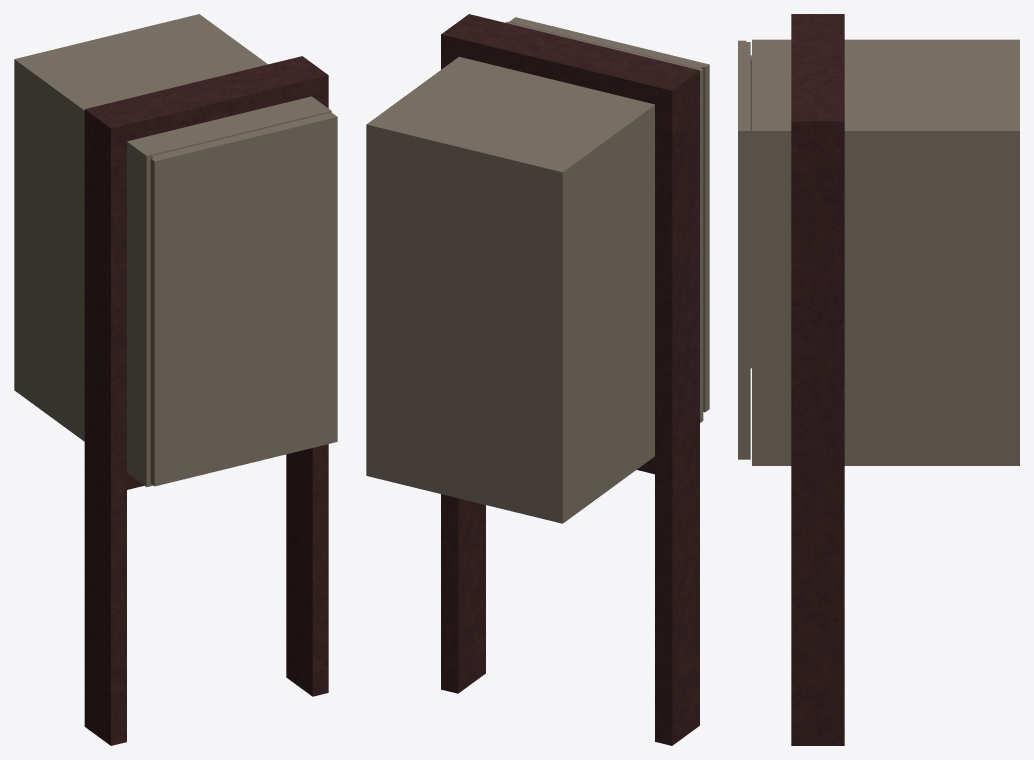
Rendered from de-boxstand_rustycopper.fbx.
3 renders of one model, left to right at view 1: azimuth 30°, elevation 25°; view 2: azimuth 150°, elevation 25°; view 3: azimuth 270°, elevation 25°, orthographic. The views are drawn at different scales.
Visible parts, largest first — view 1: de-boxstand-rustycopper; view 2: de-boxstand-rustycopper; view 3: de-boxstand-rustycopper.
Boxes of the visible parts, <box> form: de-boxstand-rustycopper: <box>14,14,337,745</box>; de-boxstand-rustycopper: <box>366,14,709,745</box>; de-boxstand-rustycopper: <box>738,14,1019,745</box>.
Bounding box in the file's own units: 40.6 × 110 × 45.
3 materials, 2 textured.
